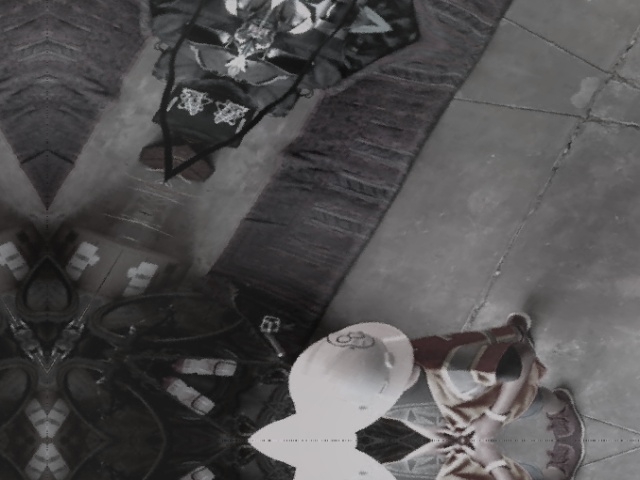eight: (320, 321, 376, 356)
